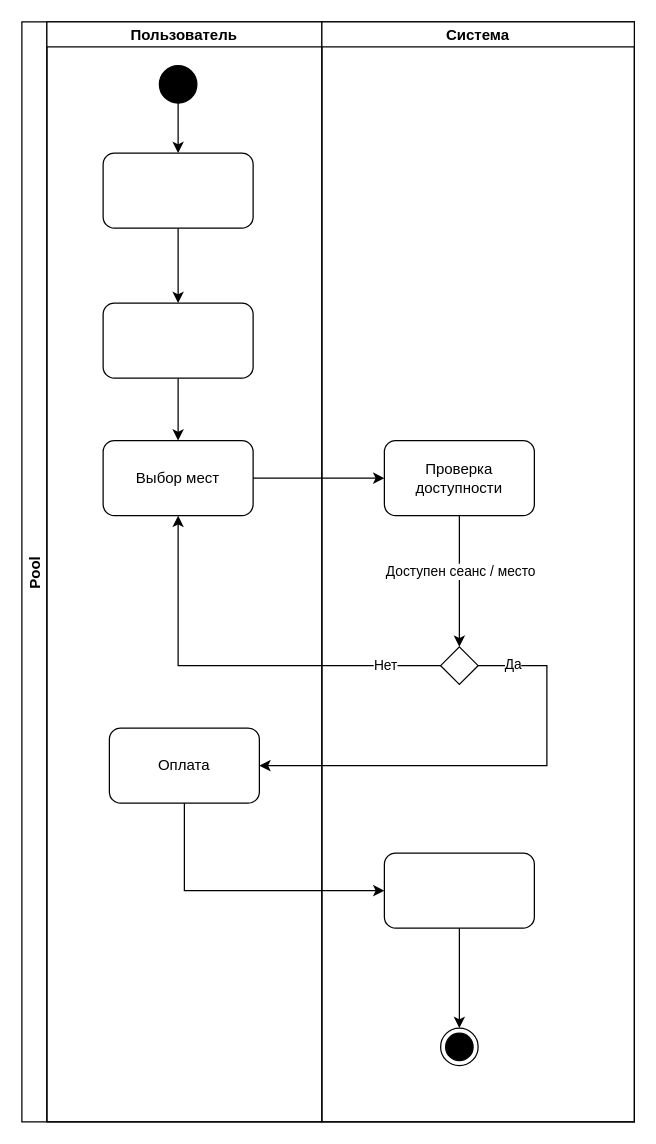
This 656x1144 diagram has some shape labels left out. Each missing label, with the centre of its shape:
"Выбор сеанса" goes at (177,340).
"Выбор фильма" goes at (177,190).
"Подтверждение" goes at (458,890).
